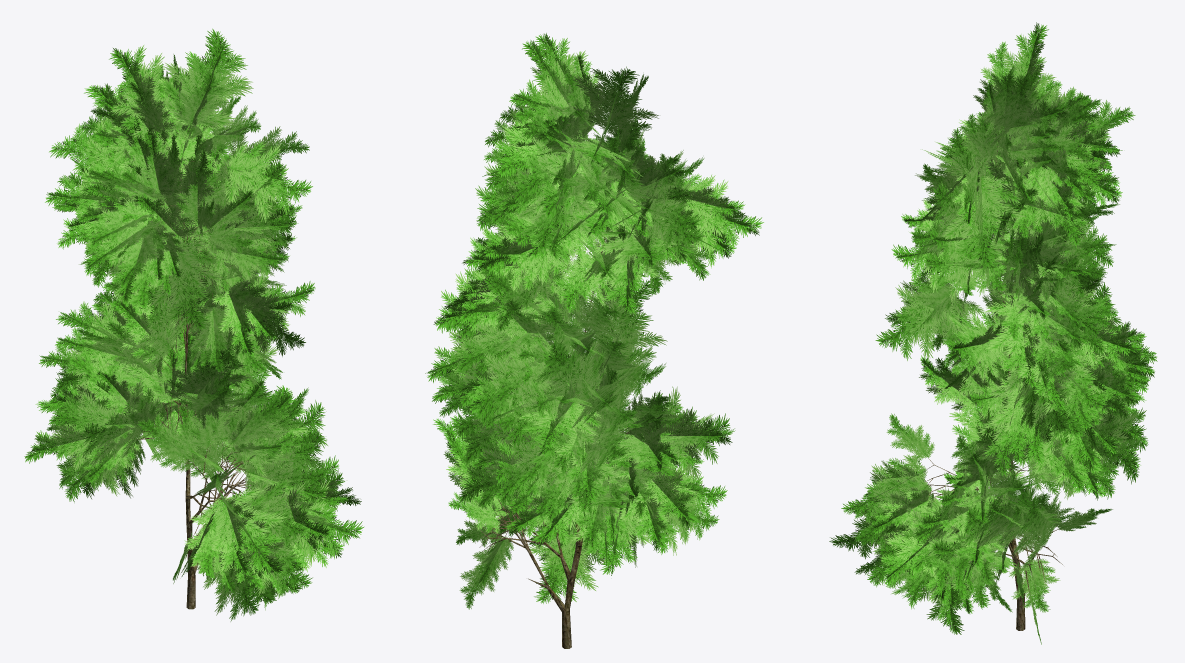
Rendered from SM_bush3.fbx.
3 renders of one model, left to right at view 1: azimuth 30°, elevation 25°; view 2: azimuth 150°, elevation 25°; view 3: azimuth 270°, elevation 25°, orthographic. The views are drawn at different scales.
Parts seen in each view (by area): view 1: SM_bush3_LOD0; view 2: SM_bush3_LOD0; view 3: SM_bush3_LOD0.
Part boxes in pixels (x1=…): SM_bush3_LOD0: x1=24, y1=28, x2=364, y2=621; SM_bush3_LOD0: x1=425, y1=33, x2=763, y2=648; SM_bush3_LOD0: x1=829, y1=22, x2=1157, y2=644.
Size of the model in its own units: 66.12 by 69.13 by 124.
2 materials, 2 textured.
